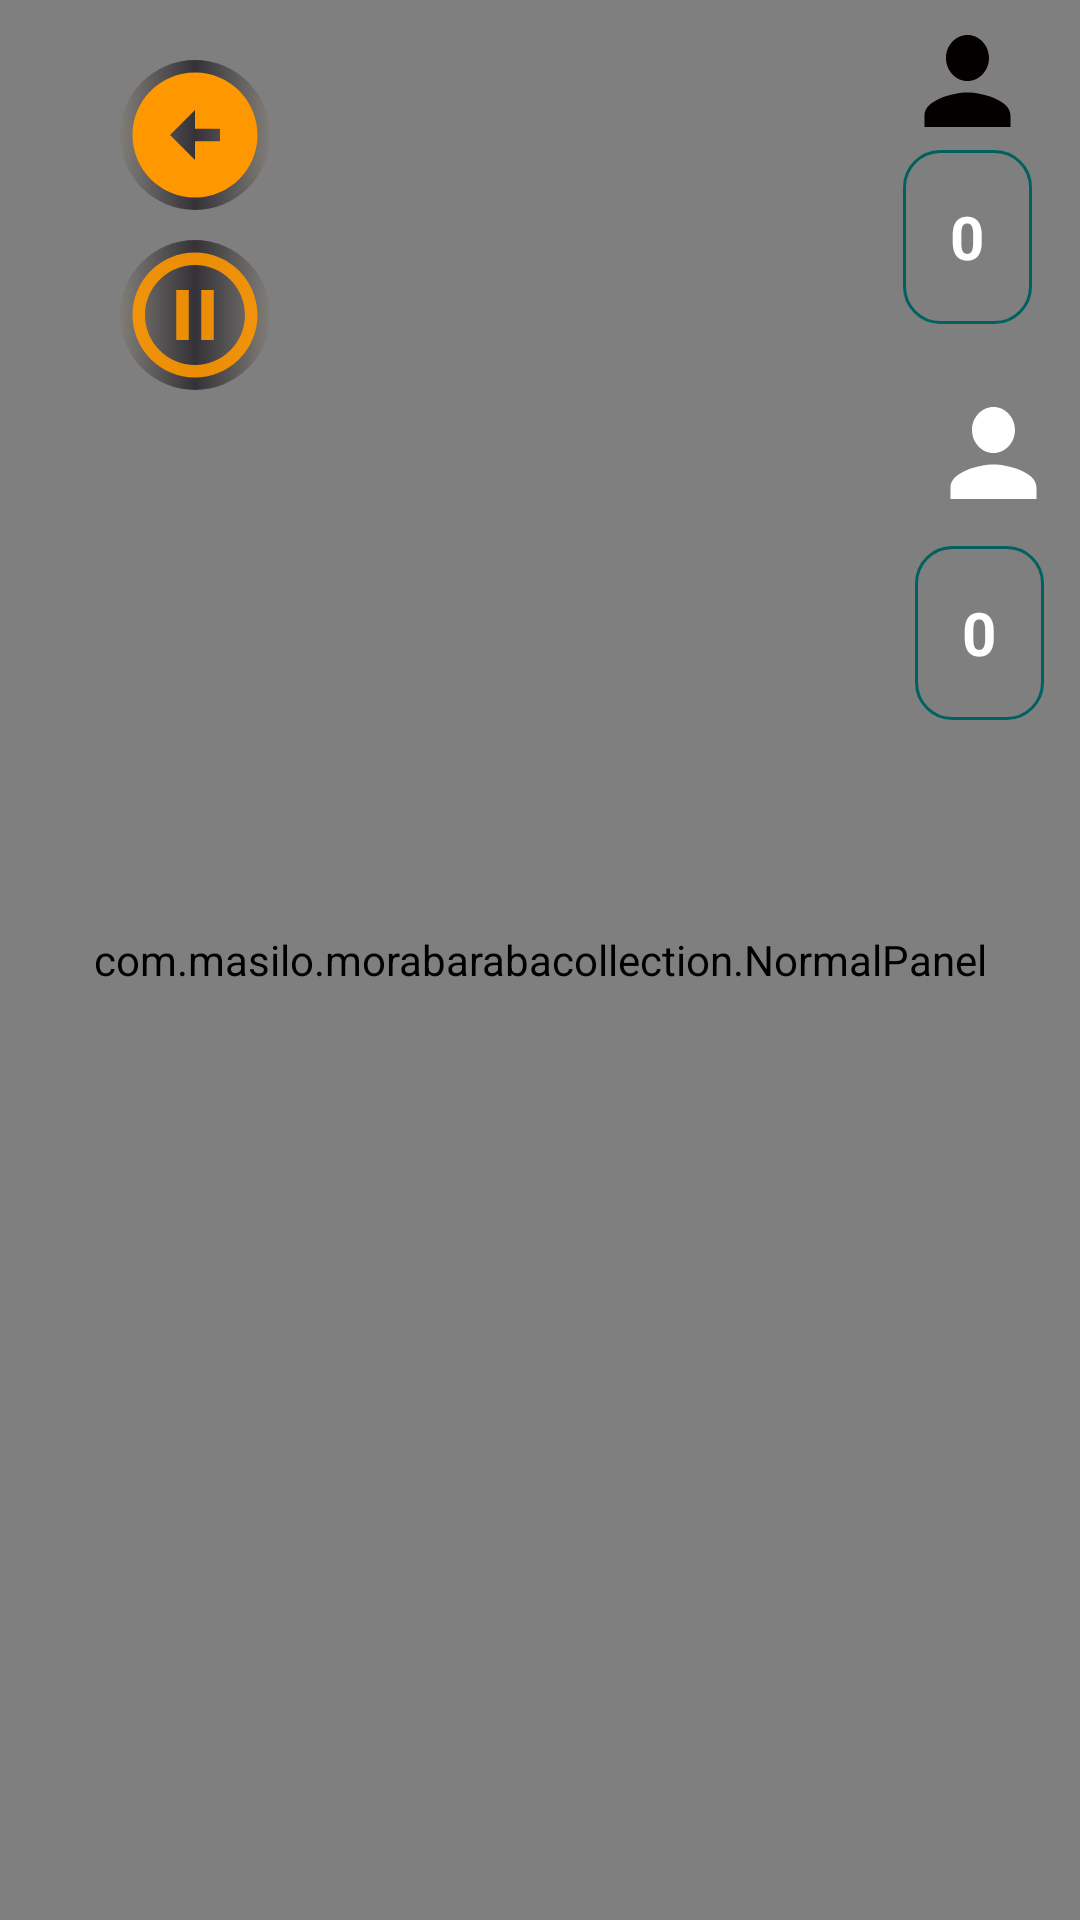

Where icons sit on this 1080 × 1920 app screen, as BBox(x1, y1, x2, y2):
player: BBox(924, 35, 1011, 127), BBox(950, 407, 1037, 499)
